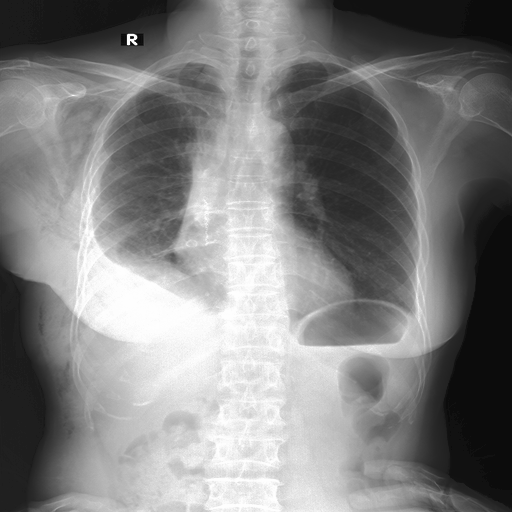Other lesion: (22, 82, 108, 228), (34, 296, 76, 439), (33, 301, 47, 340)
Pleural effusion: (77, 215, 199, 328)
Pleural thickening: (94, 209, 193, 293)
